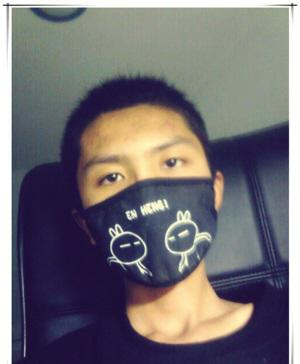OK: (76, 135, 220, 281)
